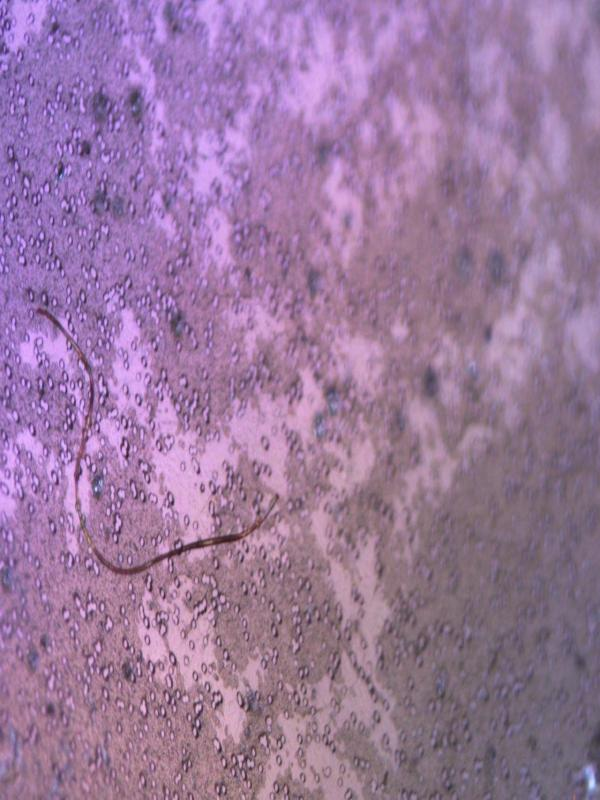microplastic: (34, 302, 280, 576)
